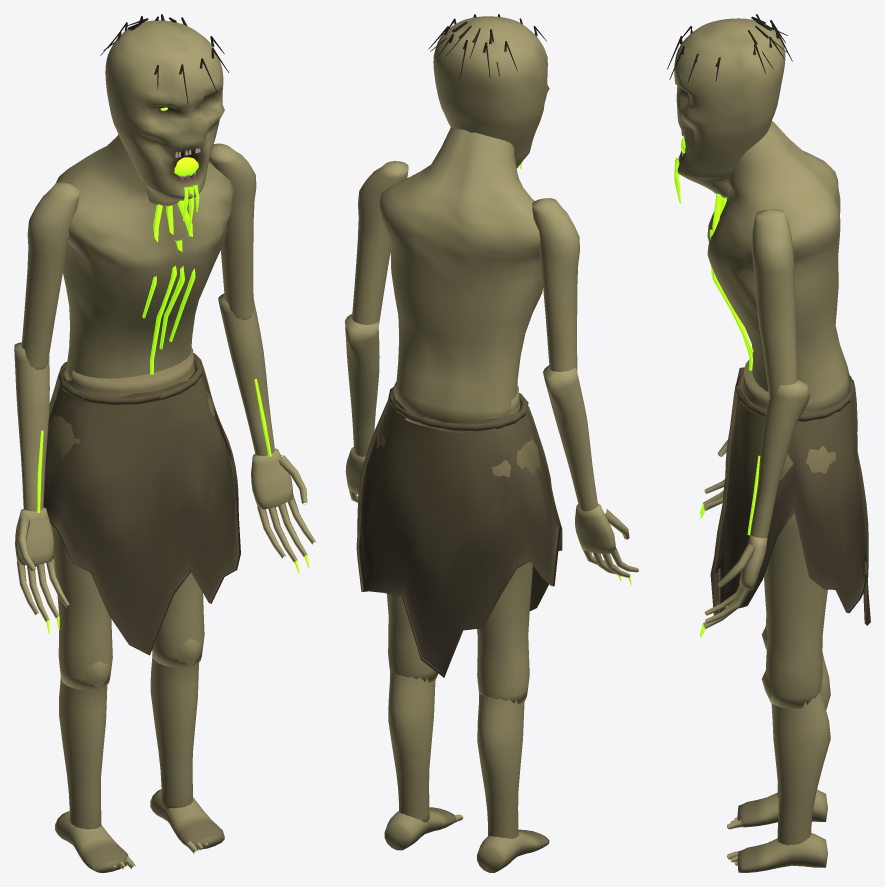
The model's file is proposed-spitter.glb.
The picture shows the model from 3 angles, left to right: view 1: azimuth 30°, elevation 25°; view 2: azimuth 150°, elevation 25°; view 3: azimuth 270°, elevation 25°; orthographic projection. The views are drawn at different scales.
Parts seen in each view (by area): view 1: proposed-spitter-blockout, object 23, object 1, object 63, object 56, object 12, object 2, object 13, object 57, object 64, object 14, object 3; view 2: proposed-spitter-blockout, object 23, object 1, object 63, object 56, object 12, object 2, object 13, object 57, object 64, object 3, object 14; view 3: proposed-spitter-blockout, object 23, object 12, object 63, object 13, object 64, object 57, object 14, object 21, object 56.
Boxes of the visible parts, <box> form: proposed-spitter-blockout: <box>35,134,240,689</box>; object 23: <box>105,20,224,206</box>; object 1: <box>21,181,79,369</box>; object 63: <box>150,639,201,808</box>; object 56: <box>59,661,109,829</box>; object 12: <box>209,143,256,320</box>; object 2: <box>14,342,49,511</box>; object 13: <box>218,293,274,455</box>; object 57: <box>55,811,128,872</box>; object 64: <box>150,789,224,849</box>; object 14: <box>251,448,293,509</box>; object 3: <box>15,507,54,565</box>; proposed-spitter-blockout: <box>356,127,562,704</box>; object 23: <box>433,16,549,168</box>; object 1: <box>532,198,579,371</box>; object 63: <box>388,671,435,822</box>; object 56: <box>477,692,524,838</box>; object 12: <box>352,161,408,325</box>; object 2: <box>543,365,597,511</box>; object 13: <box>345,314,379,456</box>; object 57: <box>477,829,549,872</box>; object 64: <box>384,807,456,850</box>; object 3: <box>575,503,615,553</box>; object 14: <box>345,446,365,494</box>; proposed-spitter-blockout: <box>707,121,870,708</box>; object 23: <box>674,18,785,198</box>; object 12: <box>752,209,797,399</box>; object 63: <box>762,671,830,845</box>; object 13: <box>750,378,810,538</box>; object 64: <box>737,833,827,872</box>; object 57: <box>737,789,827,827</box>; object 14: <box>739,534,767,590</box>; object 21: <box>717,544,755,587</box>; object 56: <box>761,627,830,797</box>.
Size of the model in its own units: 0.6894 by 1.94 by 0.435.
